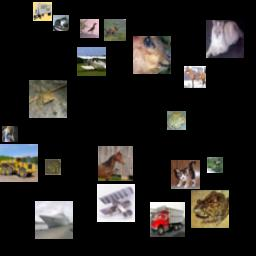airplane: (97, 184, 135, 222), (77, 47, 106, 76)
bird: (80, 19, 99, 38), (2, 126, 18, 142)
cat: (206, 20, 244, 58), (53, 15, 69, 31)
deer: (133, 36, 171, 74), (104, 19, 126, 41), (207, 157, 223, 173)
dog: (171, 160, 200, 189)
frog: (191, 190, 229, 228), (29, 80, 67, 118), (167, 111, 186, 130), (45, 159, 61, 175)
ship: (35, 201, 73, 239)
truck: (0, 144, 38, 182), (150, 202, 185, 237), (33, 2, 52, 21)
